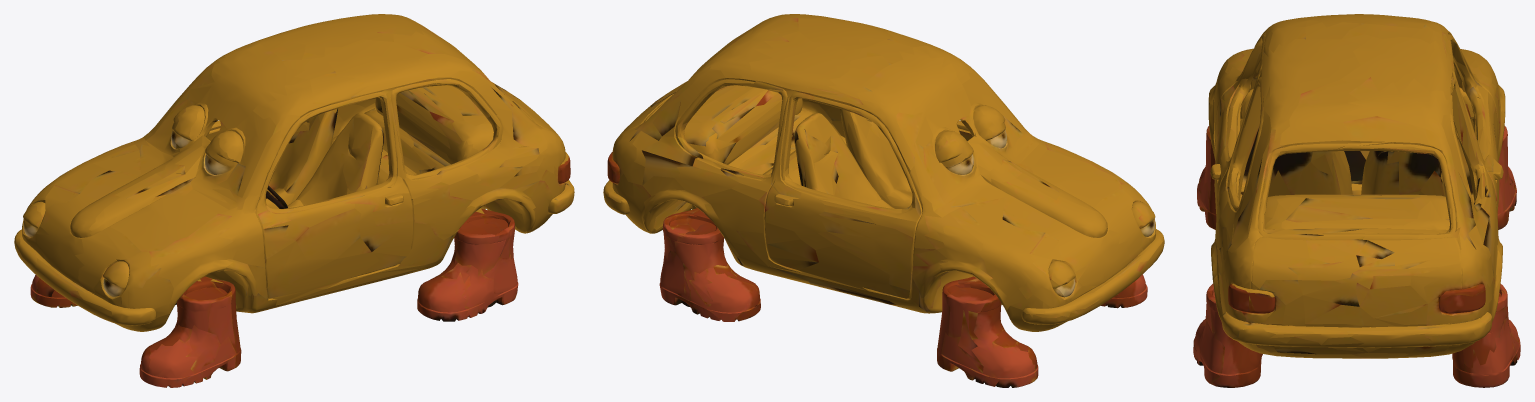
The model's file is mainst_car.glb.
3 renders of one model, left to right at view 1: azimuth 30°, elevation 25°; view 2: azimuth 150°, elevation 25°; view 3: azimuth 270°, elevation 25°, orthographic. The views are drawn at different scales.
Parts seen in each view (by area): view 1: Mesh_0; view 2: Mesh_0; view 3: Mesh_0.
Boxes of the visible parts, <box> form: Mesh_0: <box>14,14,574,387</box>; Mesh_0: <box>603,14,1164,387</box>; Mesh_0: <box>1193,14,1520,387</box>.
Bounding box in the file's own units: 1.9 × 0.8915 × 0.9733.
Materials: 1 (1 with a texture image).
